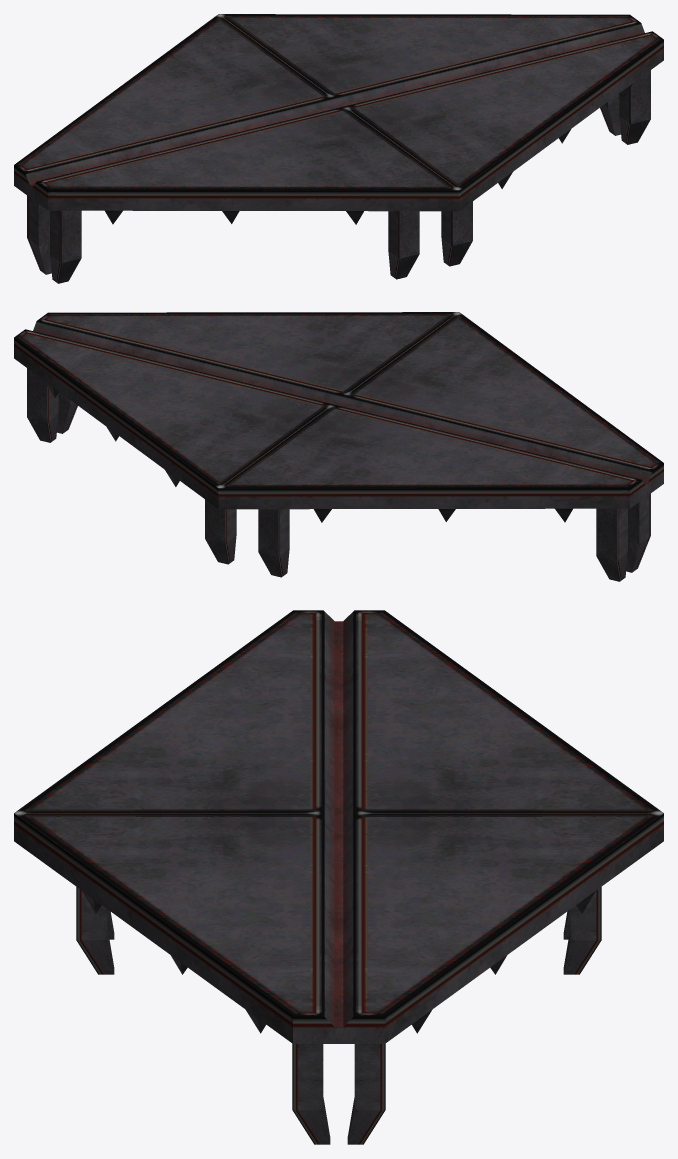
File: frn_jedi_dark_table_s02_l0.fbx
3 renders of one model, top to bottom at view 1: azimuth 30°, elevation 25°; view 2: azimuth 150°, elevation 25°; view 3: azimuth 270°, elevation 25°, orthographic. The views are drawn at different scales.
Visible parts, largest first — view 1: mesh_node; view 2: mesh_node; view 3: mesh_node.
Boxes of the visible parts, x1=… form: mesh_node: x1=14, y1=14, x2=663, y2=283; mesh_node: x1=14, y1=312, x2=663, y2=581; mesh_node: x1=14, y1=610, x2=663, y2=1144.
Bounding box in the file's own units: 4.64 × 0.75 × 3.14.
1 material, 1 textured.
